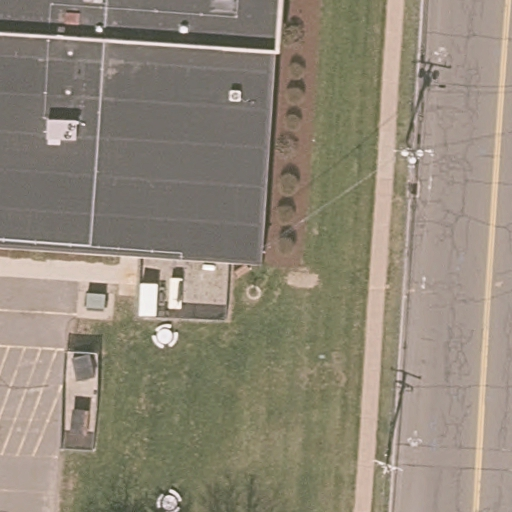DT: (394, 145, 433, 163), (373, 457, 403, 477)
